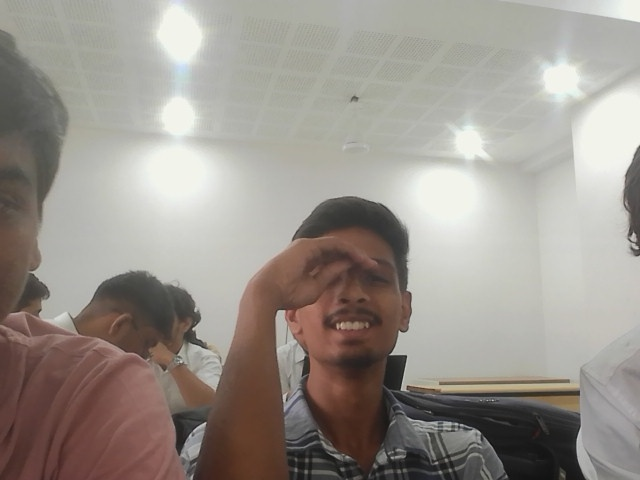fan_on: (340, 94, 370, 153)
light_on: (128, 4, 212, 136), (445, 118, 490, 155), (535, 58, 569, 90)
person: (0, 29, 191, 478), (195, 213, 505, 464), (573, 132, 639, 479), (140, 283, 221, 443)
